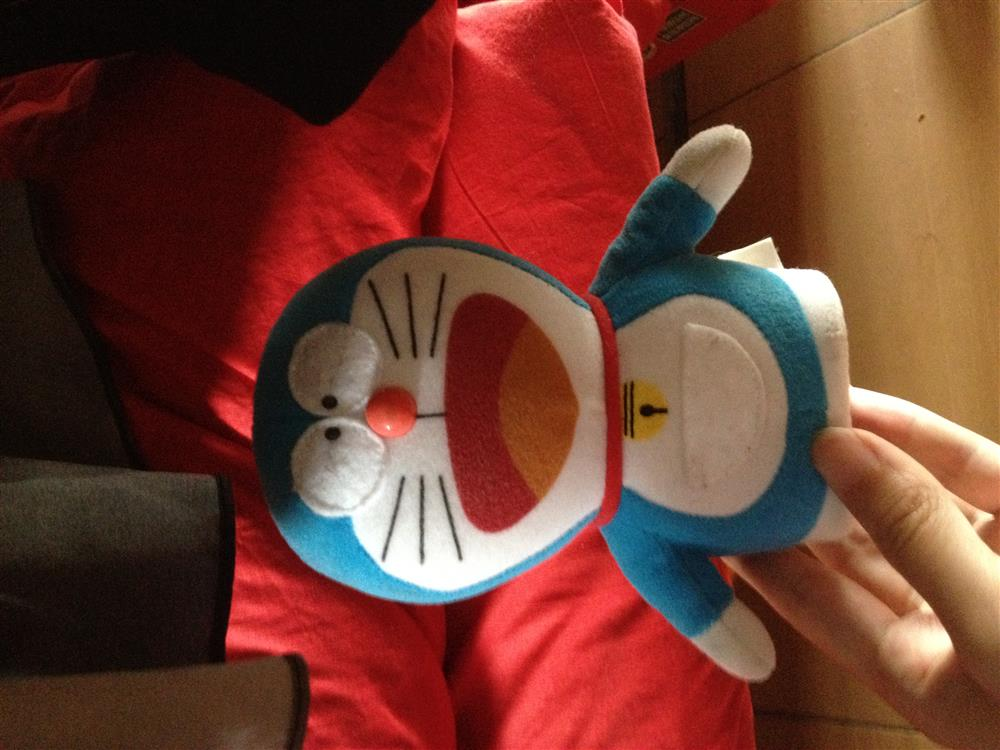Doraemon: (253, 116, 861, 694)
